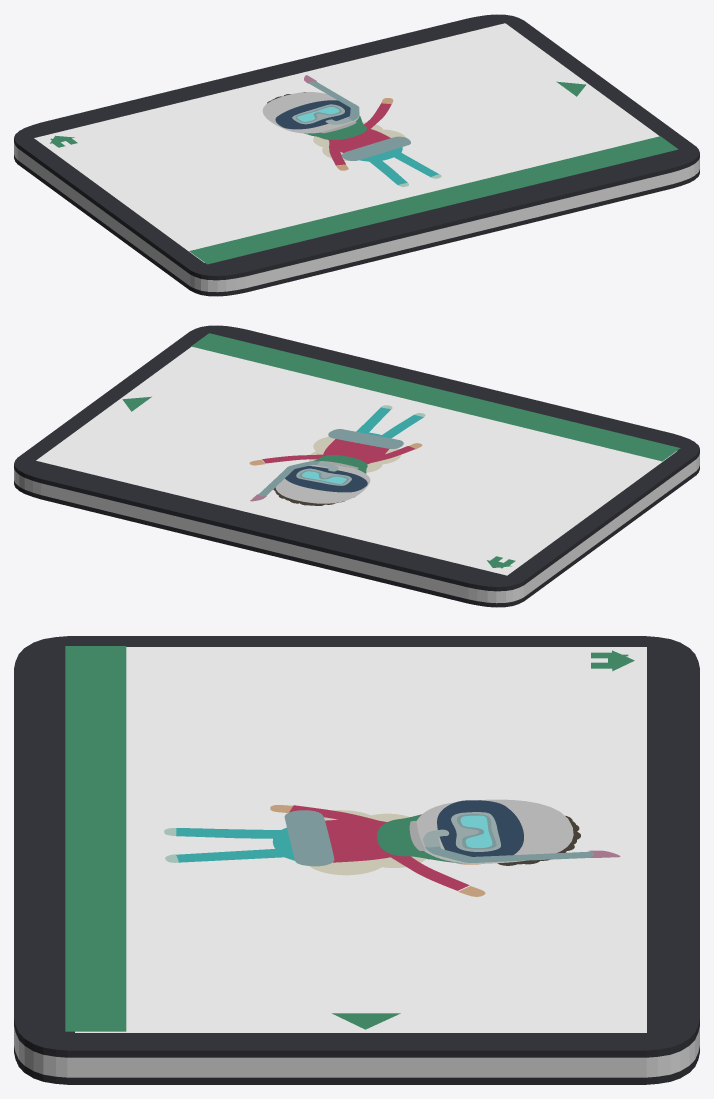
The model's file is Device.fbx.
3 views of the same model, one above another, from view 1: azimuth 30°, elevation 25°; view 2: azimuth 150°, elevation 25°; view 3: azimuth 270°, elevation 25° (orthographic). The views are drawn at different scales.
Parts seen in each view (by area): view 1: App, Device, SpaceHelmet, Snorkel, Hijab; view 2: App, Device, SpaceHelmet, Snorkel, MothWings; view 3: App, Device, SpaceHelmet, Snorkel, MothWings, Hijab.
Part boxes in pixels (x1,y1,x2,y2): App: (34,23,678,264); Device: (14,14,699,296); SpaceHelmet: (262,92,359,133); Snorkel: (292,75,410,160); Hijab: (304,115,366,139); App: (36,333,680,575); Device: (14,325,699,607); SpaceHelmet: (275,461,370,503); Snorkel: (250,429,403,501); MothWings: (309,436,401,472); App: (65,646,646,1032); Device: (14,636,699,1084); SpaceHelmet: (409,799,573,863); Snorkel: (284,810,620,866); MothWings: (309,810,426,875); Hijab: (377,814,461,863).
Bounding box in the file's own units: 138 × 6.84 × 96.71.
